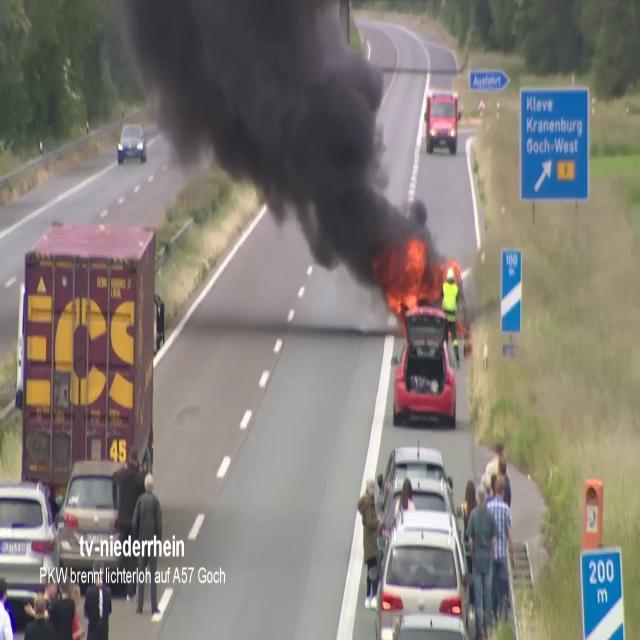Fire: (389, 237, 438, 319)
Smoke: (147, 0, 423, 278)
